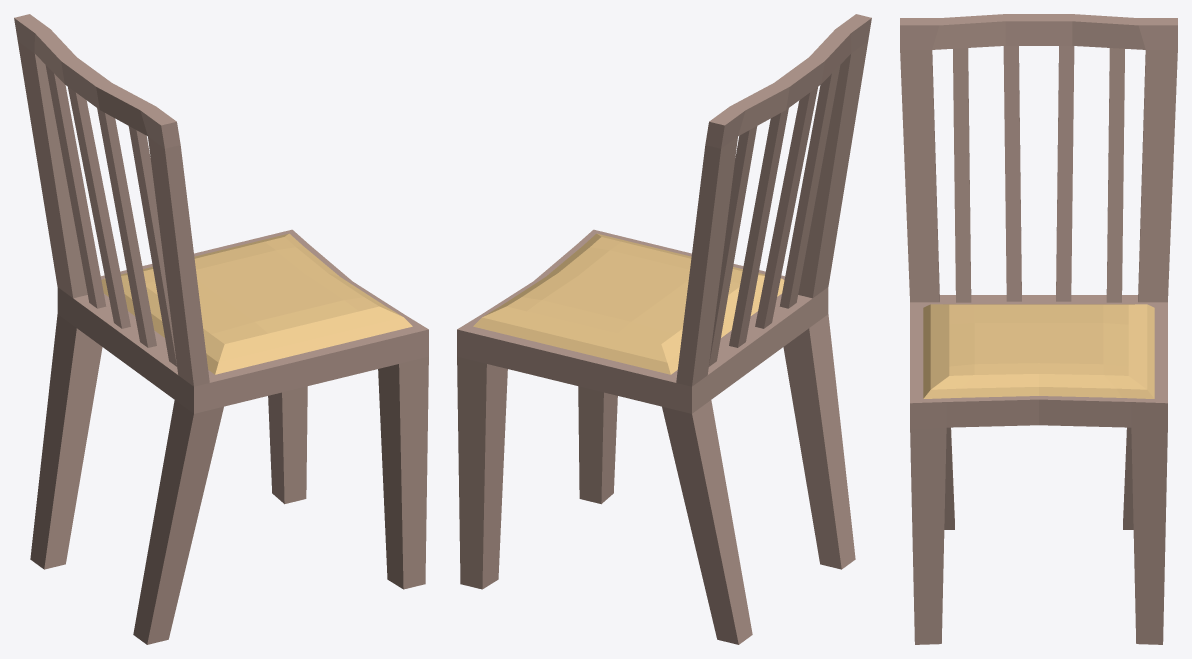
Rendered from chair_04.gltf.
The picture shows the model from 3 angles, left to right: view 1: azimuth 30°, elevation 25°; view 2: azimuth 150°, elevation 25°; view 3: azimuth 270°, elevation 25°; orthographic projection. The views are drawn at different scales.
Parts seen in each view (by area): view 1: node-0; view 2: node-0; view 3: node-0.
Boxes of the visible parts, x1,y1,x2,y2 form: node-0: [14, 14, 428, 644]; node-0: [457, 14, 871, 644]; node-0: [900, 14, 1177, 644].
Size of the model in its own units: 5.52 by 9.92 by 4.98.
